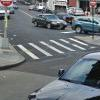Crosswalk: (12, 31, 89, 55)
